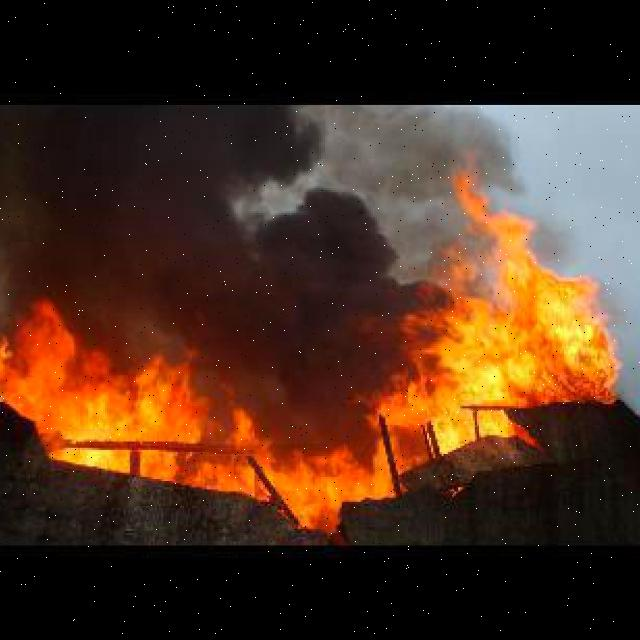fire: (0, 220, 618, 490)
smoke: (338, 111, 520, 272)
